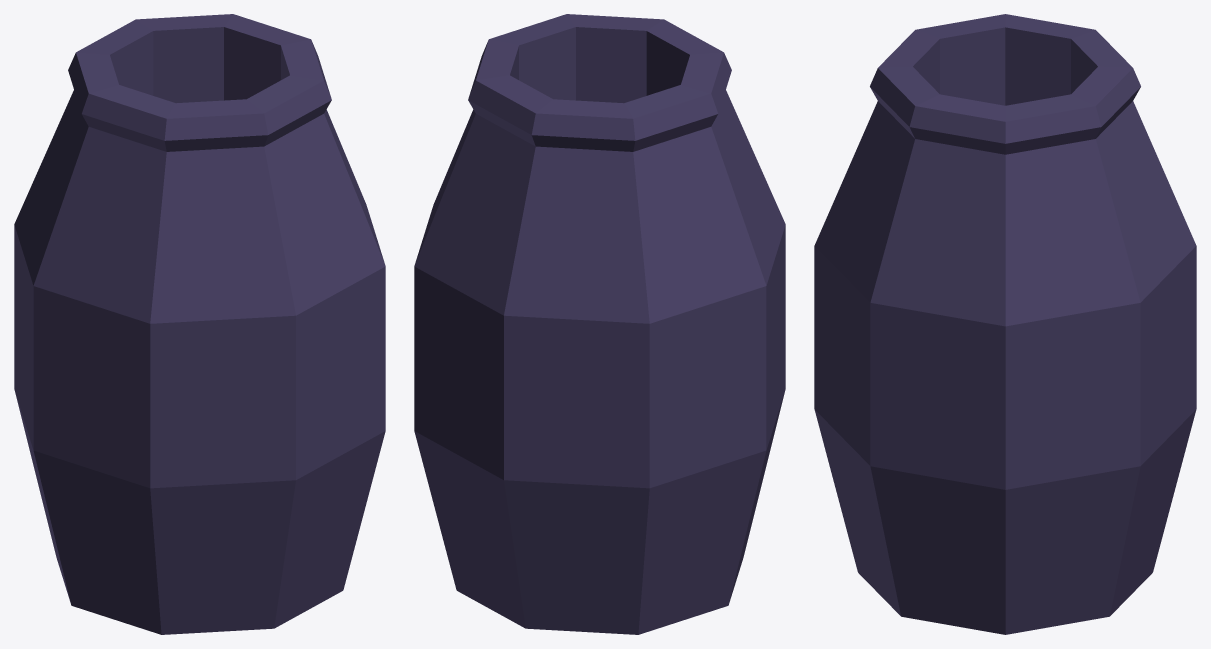
File: Blue Vase.fbx
3 renders of one model, left to right at view 1: azimuth 30°, elevation 25°; view 2: azimuth 150°, elevation 25°; view 3: azimuth 270°, elevation 25°, orthographic.
Parts seen in each view (by area): view 1: Blue Vase; view 2: Blue Vase; view 3: Blue Vase.
Boxes of the visible parts, x1,y1,x2,y2 form: Blue Vase: [14, 14, 385, 634]; Blue Vase: [414, 14, 785, 634]; Blue Vase: [814, 14, 1196, 634].
Size of the model in its own units: 0.2015 by 0.2945 by 0.2015.
